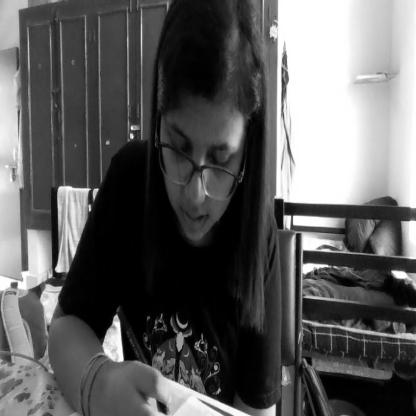Normal: (153, 11, 256, 257)
